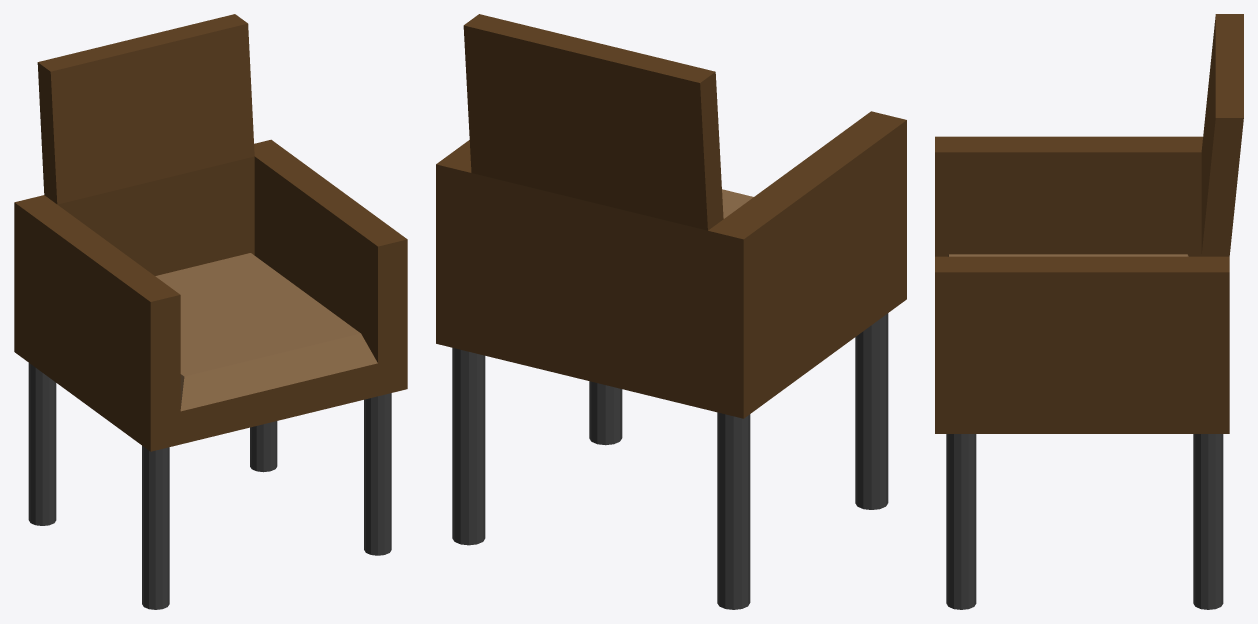
File: Arm_chair.fbx
The picture shows the model from 3 angles, left to right: view 1: azimuth 30°, elevation 25°; view 2: azimuth 150°, elevation 25°; view 3: azimuth 270°, elevation 25°; orthographic projection. The views are drawn at different scales.
Visible parts, largest first — view 1: pCube2; view 2: pCube2; view 3: pCube2.
Boxes of the visible parts, box(x1,y1,x2,y2) form: pCube2: box(14, 14, 407, 609); pCube2: box(436, 14, 906, 609); pCube2: box(935, 14, 1243, 609).
Size of the model in its own units: 24 by 39.57 by 23.11.
